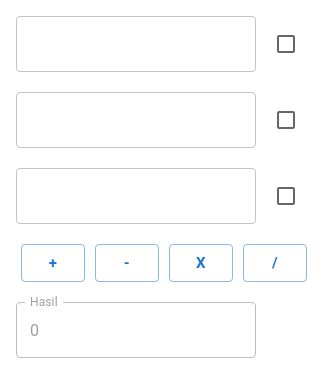
Scenario: Divided operation › action divided 2 number
Type "3" into the number field named "numbers0" at (136, 44), box [16, 16, 256, 72]
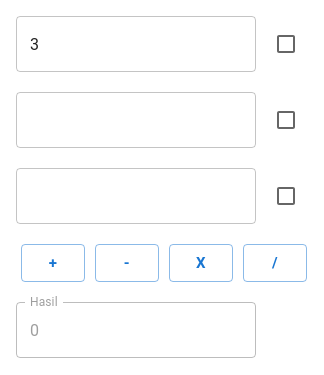
Type "3" into the number field named "numbers1" at (136, 120), box [16, 92, 256, 148]
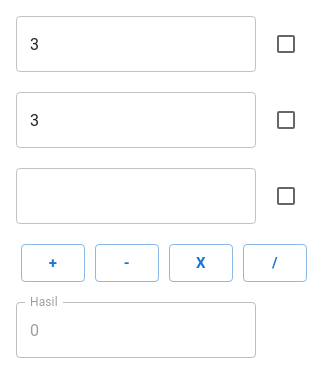
Click the checkbox named "checks0" at (286, 44), box [274, 32, 298, 56]
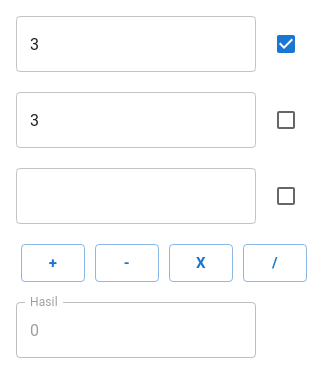
Click the checkbox named "checks1" at (286, 120), box [274, 108, 298, 132]
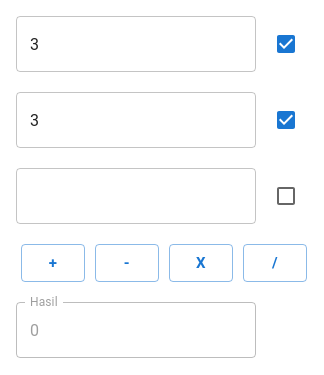
Click the button named "button-distribute" at (275, 263), box [243, 244, 307, 282]
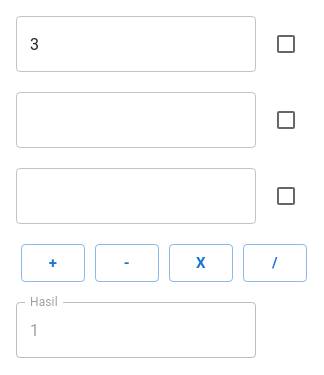
Expected: the field named "result" holds "1", [16, 302, 256, 358]
